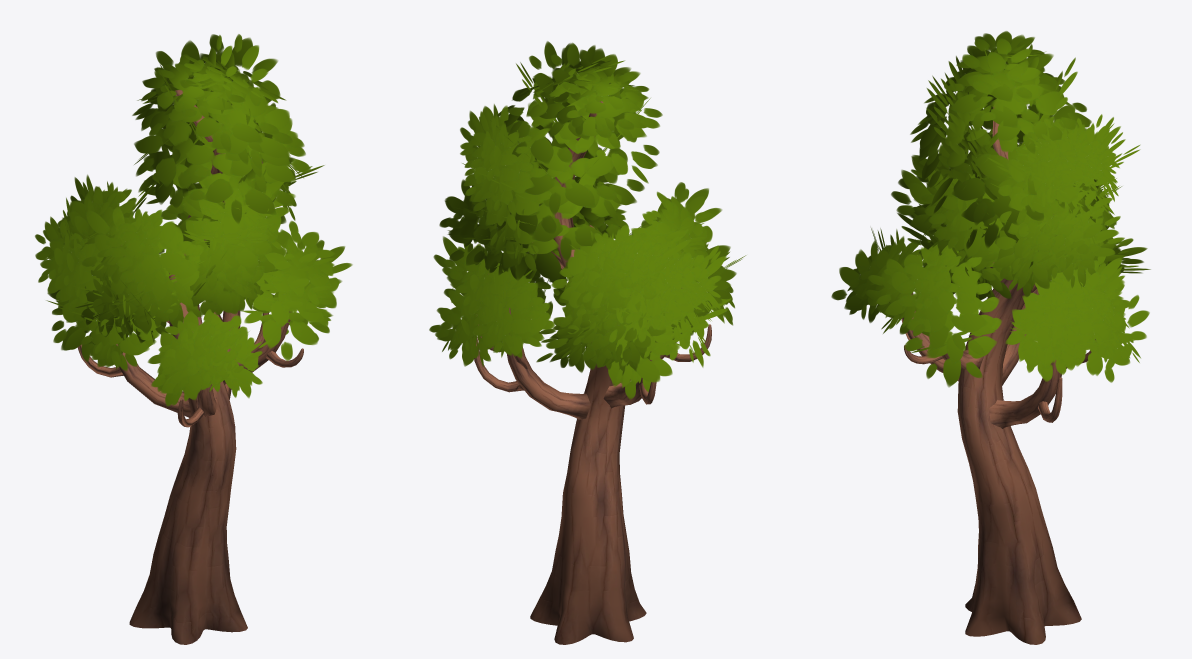
File: fruit-tree-pear.glb
3 views of the same model, side by side, from view 1: azimuth 30°, elevation 25°; view 2: azimuth 150°, elevation 25°; view 3: azimuth 270°, elevation 25° (orthographic). The views are drawn at different scales.
Visible parts, largest first — view 1: CommonTree_2; view 2: CommonTree_2; view 3: CommonTree_2.
Boxes of the visible parts, <box> form: CommonTree_2: <box>35,34,352,644</box>; CommonTree_2: <box>429,41,746,644</box>; CommonTree_2: <box>831,31,1150,644</box>.
Bounding box in the file's own units: 4.46 × 7.64 × 4.28.
2 materials, 2 textured.
